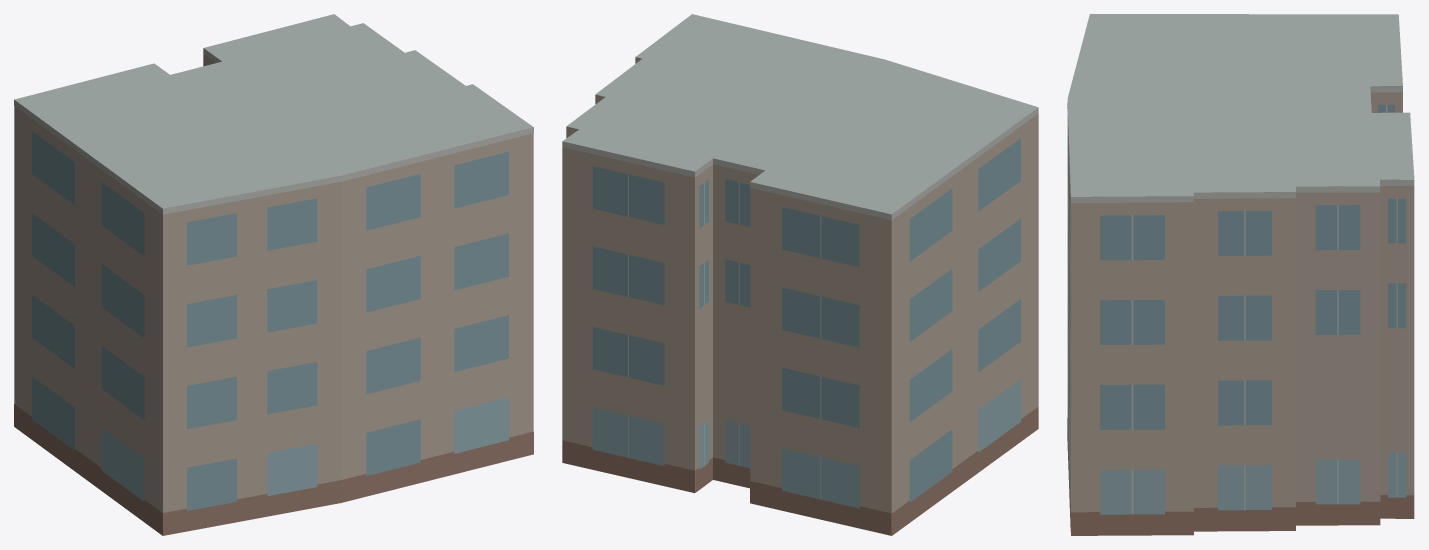
File: survey-upis-32662916.glb
The picture shows the model from 3 angles, left to right: view 1: azimuth 30°, elevation 25°; view 2: azimuth 150°, elevation 25°; view 3: azimuth 270°, elevation 25°; orthographic projection. The views are drawn at different scales.
Visible parts, largest first — view 1: survey-upis-32662916.tmp; view 2: survey-upis-32662916.tmp; view 3: survey-upis-32662916.tmp.
Boxes of the visible parts, x1,y1,x2,y2 form: survey-upis-32662916.tmp: (14,14,533,535); survey-upis-32662916.tmp: (562,14,1038,535); survey-upis-32662916.tmp: (1067,14,1414,535).
Size of the model in its own units: 15.4 by 13.3 by 12.35.
